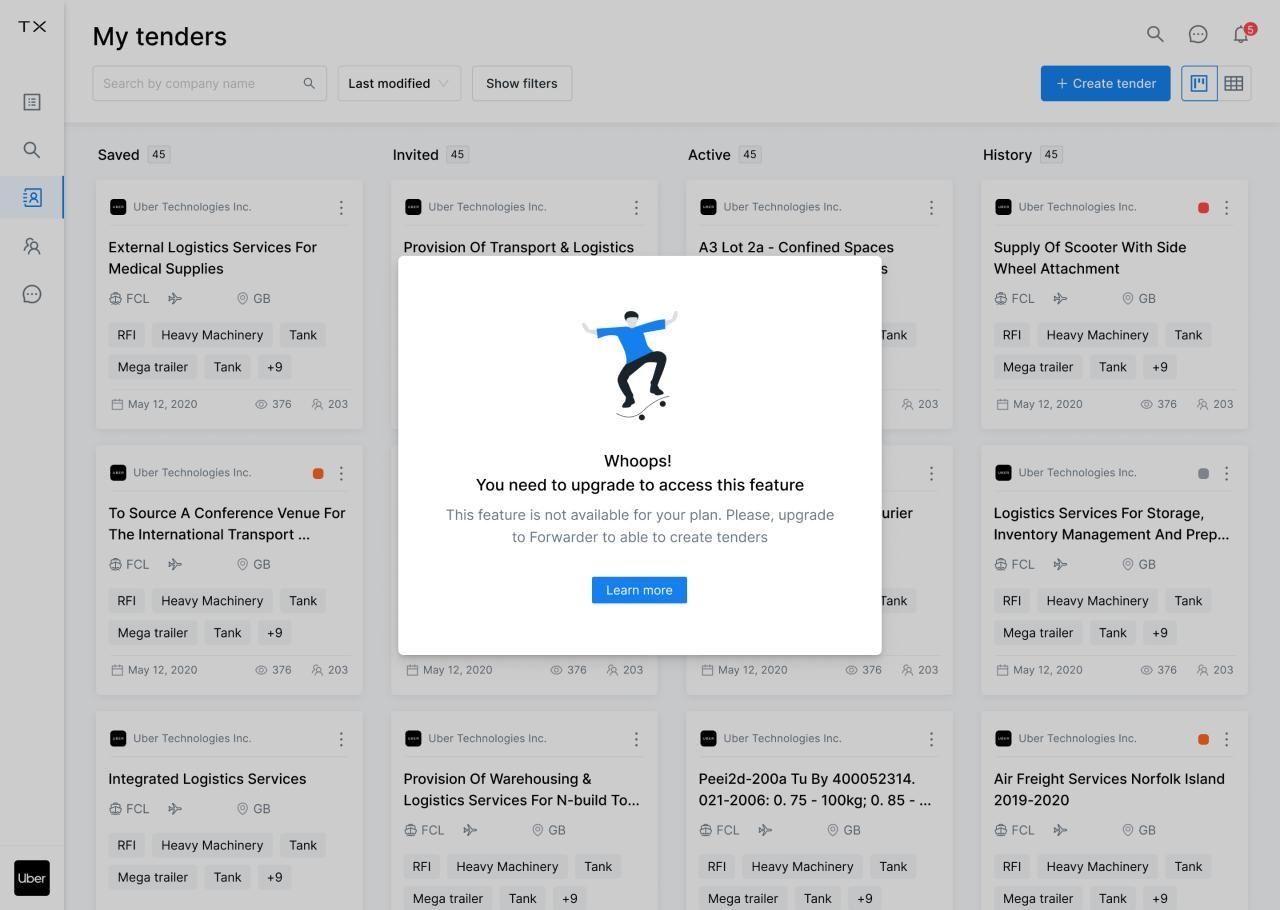button: (1042, 66, 1173, 103), (473, 68, 573, 103), (591, 576, 690, 606)
dropdown: (339, 66, 463, 104)
icon: (299, 72, 327, 95), (1190, 73, 1214, 95), (22, 187, 45, 209), (21, 285, 45, 306), (1146, 25, 1168, 47), (1223, 74, 1247, 94), (1188, 25, 1211, 45), (1233, 24, 1251, 47), (23, 93, 43, 112), (23, 141, 42, 161), (24, 236, 42, 257), (1053, 556, 1072, 574), (605, 662, 622, 680), (1052, 290, 1070, 307), (1222, 199, 1235, 222), (168, 292, 186, 308), (756, 823, 775, 838), (108, 801, 125, 817), (462, 825, 480, 840), (167, 802, 185, 817), (994, 823, 1010, 839), (699, 823, 715, 839), (901, 398, 917, 414), (169, 557, 185, 573), (901, 664, 916, 681), (1053, 824, 1071, 838), (996, 664, 1012, 679), (404, 823, 419, 839), (406, 663, 422, 678), (996, 398, 1012, 413), (109, 558, 125, 573), (1197, 397, 1210, 415), (928, 730, 939, 751), (109, 292, 124, 307), (701, 664, 717, 678), (1138, 399, 1156, 411), (1123, 557, 1137, 572), (532, 824, 546, 839), (633, 731, 643, 752), (1122, 292, 1136, 307), (995, 292, 1009, 307), (1197, 663, 1210, 679), (1123, 823, 1136, 839), (1224, 729, 1233, 752), (337, 199, 347, 219), (237, 558, 250, 573), (845, 665, 861, 677), (338, 731, 348, 750), (339, 465, 348, 486), (238, 802, 251, 816), (828, 824, 840, 839), (550, 664, 565, 676), (238, 292, 250, 307), (1224, 464, 1232, 485), (929, 465, 937, 486), (1141, 666, 1155, 677), (929, 199, 936, 219), (635, 200, 642, 219)
input: (94, 66, 329, 102)
label: (475, 453, 812, 495), (91, 23, 228, 50), (982, 147, 1035, 166), (390, 147, 441, 164), (100, 147, 142, 167), (687, 148, 732, 165)
